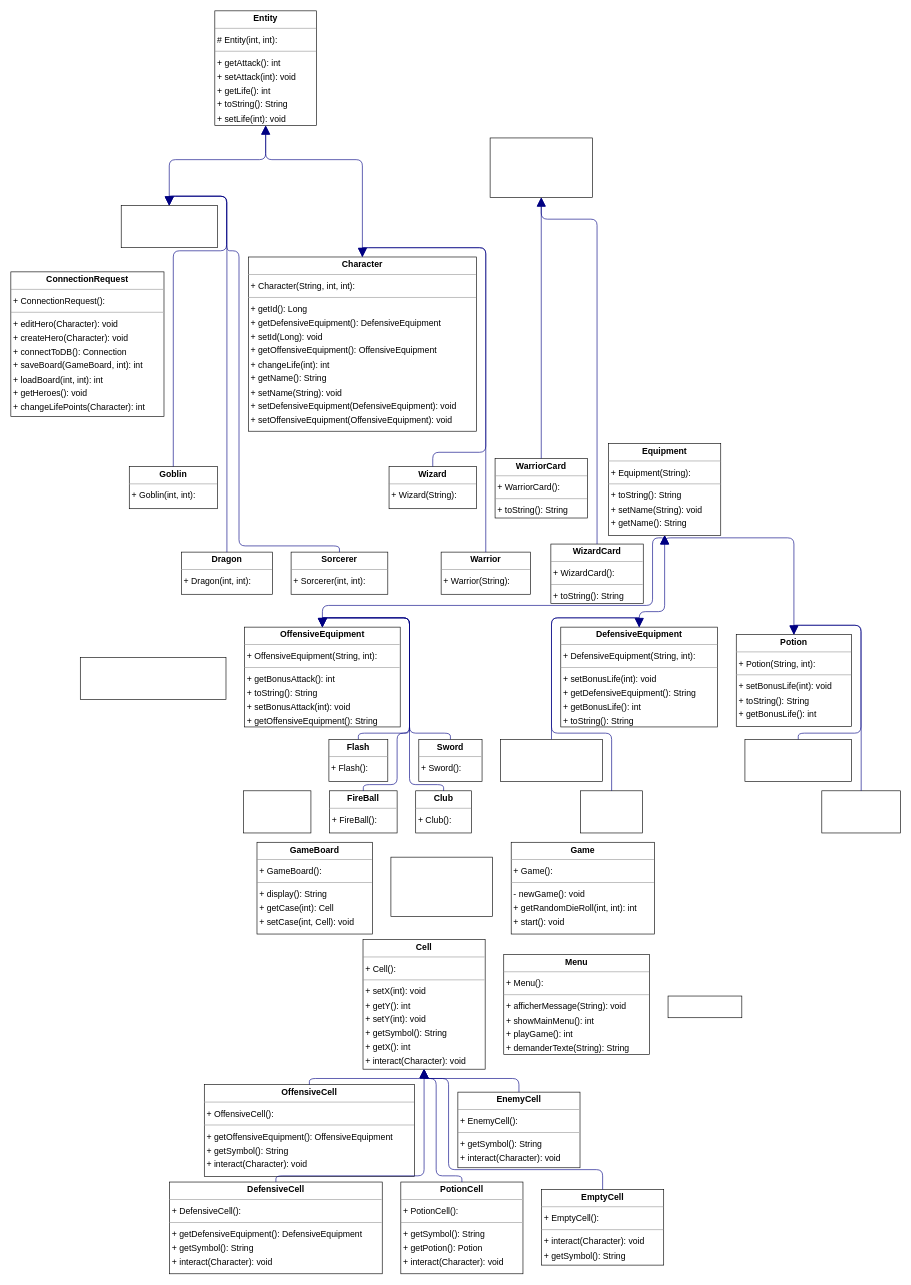
Image size: 911x1285. Some labels were removed from this diagram. Each missing label, with the centre of its shape:
<<interface>> Message: the point at 704,1006
BigPotion + BigPotion():: the point at 861,811
CharacterCard + CharacterCard(): + afficherCard(): void: the point at 540,167
Display + Display():: the point at 277,811
Enemies + Enemies(int, int):: the point at 169,226
Main + Main(): + main(String[]): void: the point at 441,887
OutOfBoardException + OutOfBoardException(String):: the point at 153,678
ProtectedSpell + ProtectedSpell():: the point at 551,760
Shield + Shield():: the point at 611,811
StandardPotion + StandardPotion():: the point at 798,760
